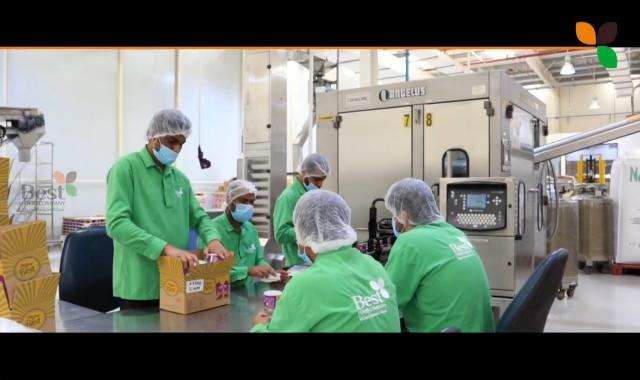Hairnet: (295, 193, 360, 250), (381, 176, 444, 223), (141, 106, 191, 140), (297, 152, 332, 179), (223, 180, 260, 202)
Mask: (152, 147, 181, 170), (233, 203, 254, 222), (390, 217, 409, 237), (297, 250, 314, 266), (303, 181, 321, 191)
No_Apron: (112, 159, 195, 302), (403, 229, 490, 334), (284, 259, 392, 336), (215, 218, 262, 282)
No_Glove: (163, 247, 196, 271), (246, 263, 274, 282), (203, 238, 227, 259), (253, 311, 271, 326)
